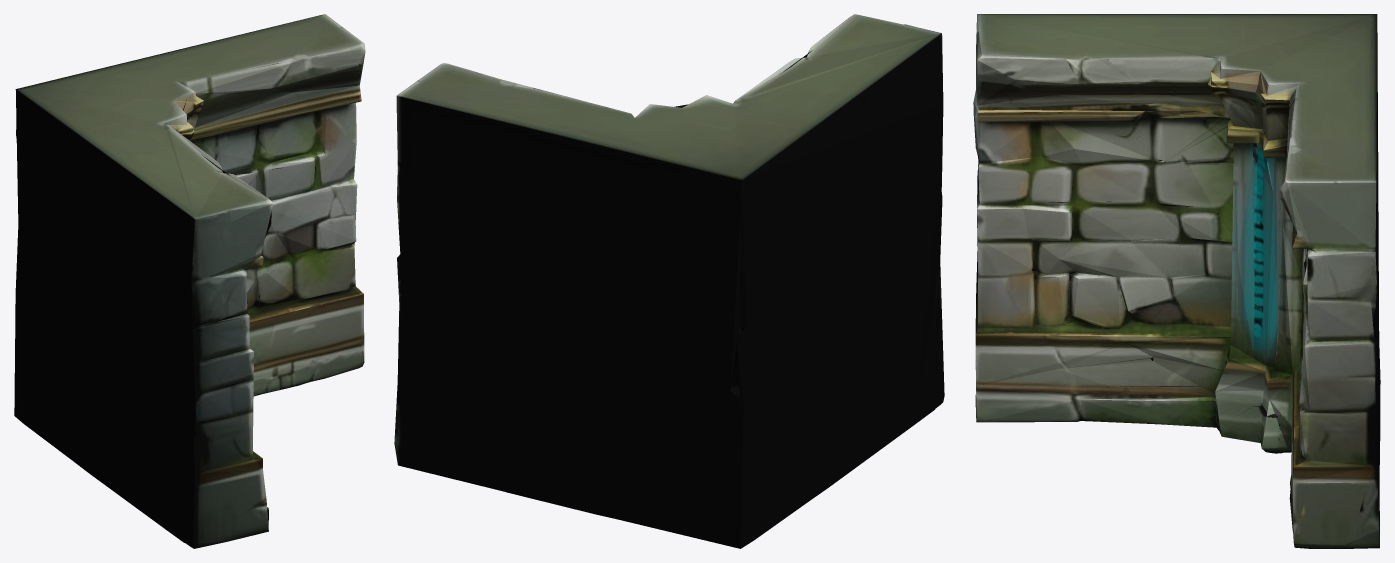
File: wall_corner.glb
The picture shows the model from 3 angles, left to right: view 1: azimuth 30°, elevation 25°; view 2: azimuth 150°, elevation 25°; view 3: azimuth 270°, elevation 25°; orthographic projection. The views are drawn at different scales.
Visible parts, largest first — view 1: world; view 2: world; view 3: world.
Boxes of the visible parts, left/top/right/bottom form: world: left=14, top=14, right=365, bottom=548; world: left=394, top=14, right=944, bottom=548; world: left=973, top=14, right=1380, bottom=548.
Size of the model in its own units: 0.9847 by 0.9973 by 0.9903.
1 material, 1 textured.
